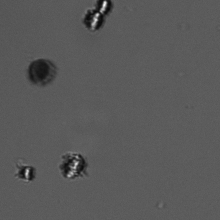Dead Cell: (27, 58, 57, 86)
Living Cell: (58, 151, 86, 179), (80, 9, 109, 33), (16, 164, 35, 181), (96, 1, 113, 14)
